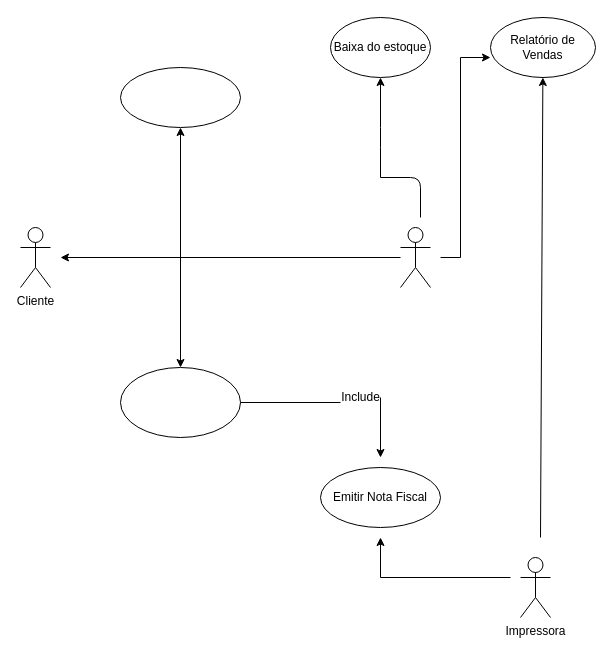
Image size: 613x656. Some labels were removed from this diagram. Each missing label, with the centre of its shape:
Efetuar o pagamento: the point at 180,402
Efetuar uma venda: the point at 180,97
Vendedor: the point at 415,257
